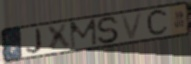C: (145, 7, 170, 39)
J: (25, 27, 43, 54)
M: (69, 18, 99, 51)
S: (95, 16, 121, 45)
V: (119, 10, 145, 42)
X: (45, 22, 73, 53)
